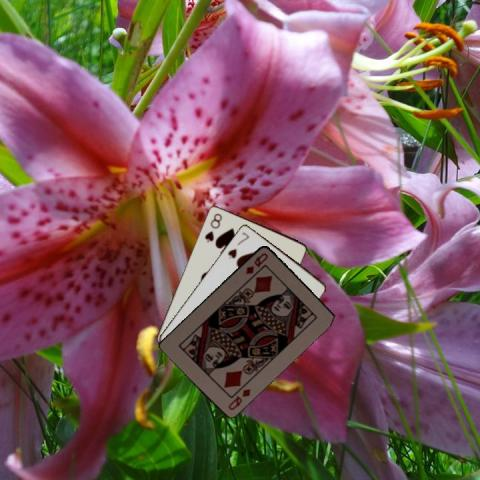7s: (224, 229, 250, 260)
8s: (202, 210, 223, 244)
Qd: (225, 386, 253, 412), (243, 250, 269, 276)
